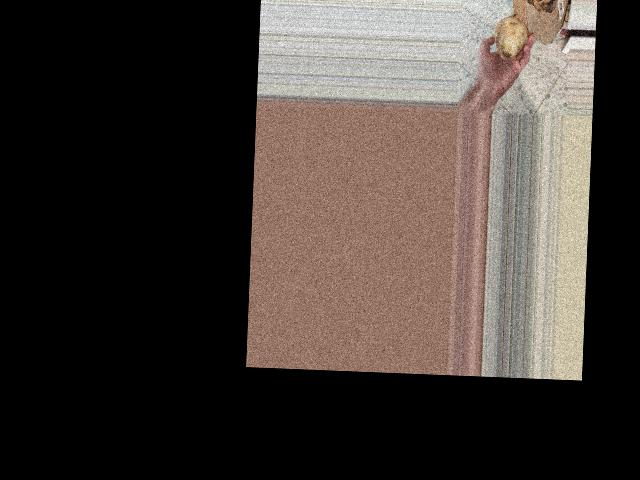onion: (490, 12, 533, 63)
